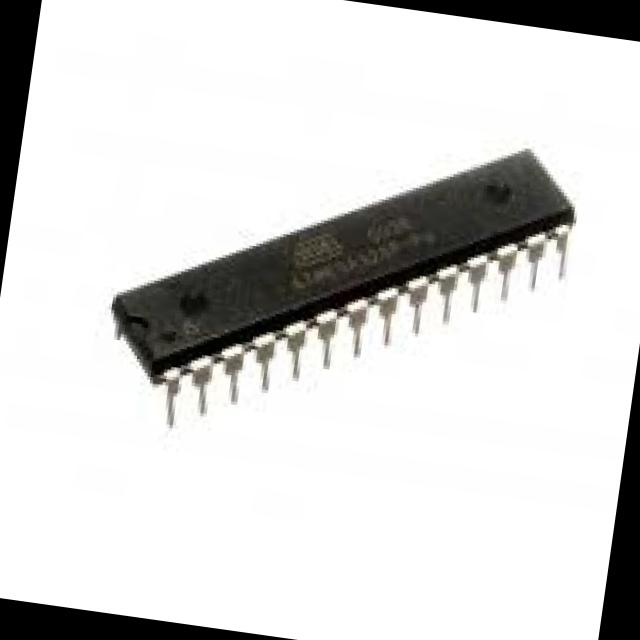atmega: (90, 88, 590, 484)
